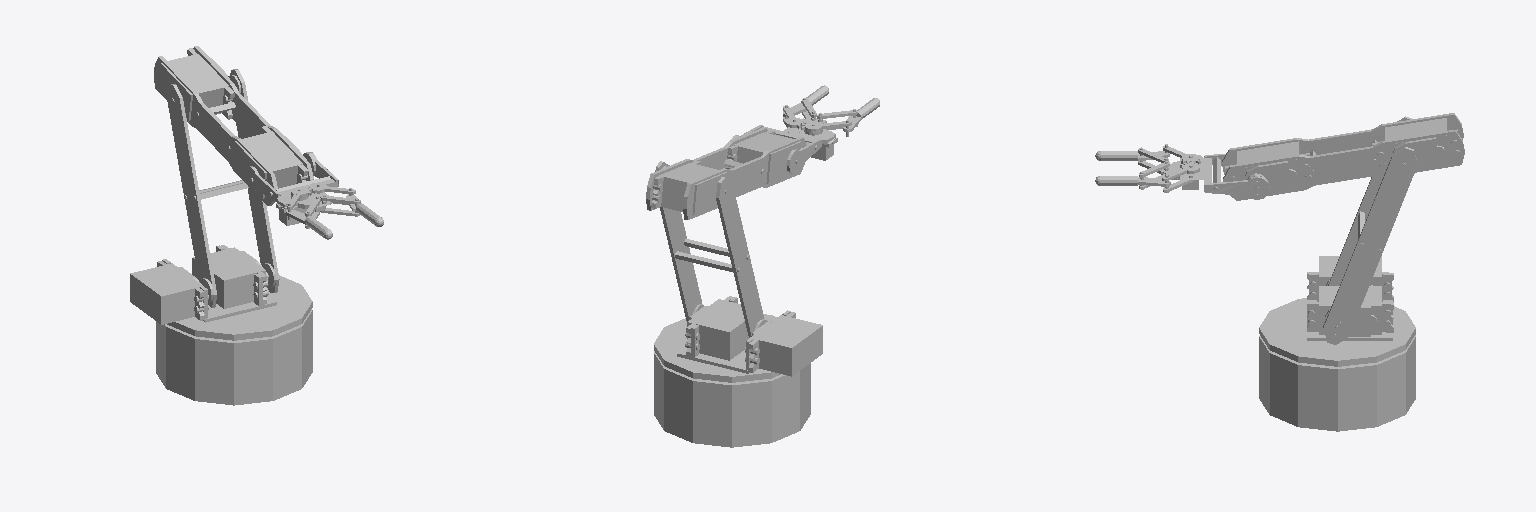
The model's file is arm.obj.
3 views of the same model, side by side, from view 1: azimuth 30°, elevation 25°; view 2: azimuth 150°, elevation 25°; view 3: azimuth 270°, elevation 25° (orthographic).
Parts seen in each view (by area): view 1: g0, g4_group, g2_group, g10_group, g8_group, g3_group, g9_group, g3; view 2: g0, g4_group, g2_group, g8_group, g10_group, g3_group, g9_group, g3; view 3: g4_group, g0, g2_group, g10_group, g3_group, g9_group, g3, g8_group.
Boxes of the visible parts, box(x1,y1,x2,y2) form: g0: box(156, 309, 312, 405); g4_group: box(154, 46, 315, 205); g2_group: box(167, 69, 279, 307); g10_group: box(167, 275, 312, 340); g8_group: box(130, 261, 204, 324); g3_group: box(269, 176, 383, 239); g9_group: box(192, 245, 268, 308); g3: box(245, 152, 338, 201); g0: box(654, 351, 810, 447); g4_group: box(646, 127, 806, 219); g2_group: box(655, 161, 763, 337); g8_group: box(749, 312, 822, 376); g10_group: box(654, 314, 780, 382); g3_group: box(762, 85, 879, 160); g9_group: box(686, 296, 748, 360); g3: box(730, 125, 821, 173); g4_group: box(1222, 113, 1464, 200); g0: box(1259, 335, 1415, 431); g2_group: box(1323, 116, 1417, 344); g10_group: box(1259, 281, 1415, 366); g3_group: box(1095, 144, 1220, 192); g9_group: box(1307, 286, 1393, 336); g3: box(1204, 154, 1269, 199); g8_group: box(1307, 256, 1393, 301).
Size of the model in its own units: 0.7187 by 1.28 by 1.54.